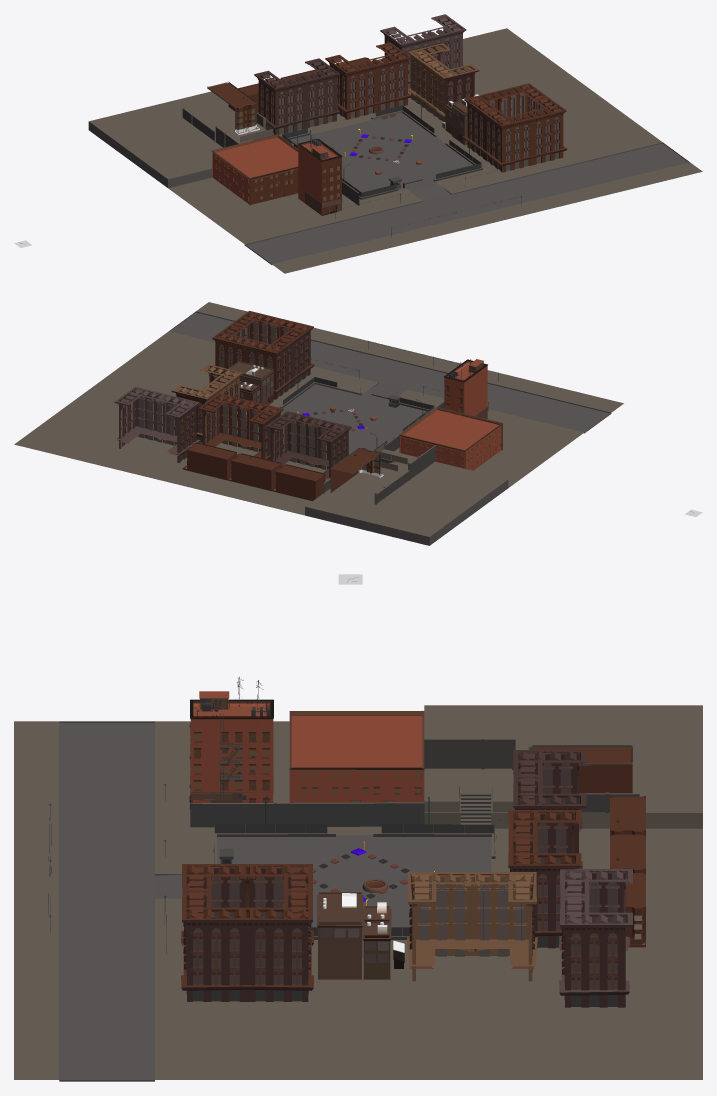
The model's file is street - Copy.fbx.
3 views of the same model, one above another, from view 1: azimuth 30°, elevation 25°; view 2: azimuth 150°, elevation 25°; view 3: azimuth 270°, elevation 25° (orthographic). The views are drawn at different scales.
Visible parts, largest first — view 1: Plane.005, Object290.004, Plane.003, Object290.011, Object290.001, Object290.003, polySurface55, Object290.002, Fencing_low.001, Cube.021, Cube.012, Plane.001 (+1 smaller); view 2: Plane.005, Object290.004, Plane.003, Cube.012, Object290.002, Object290.011, Object290.001, polySurface55, Object290.003, Cube.021, Fencing_low.001, Box209.001 (+3 smaller); view 3: Plane.005, Object290.004, Plane.003, Object290.003, Object290.002, polySurface55, Object290.001, Object290.011, Cube.012, Fencing_low.001, Box209.006, Box209.002 (+4 smaller).
Part boxes in pixels (box(x1,y1,x2,y2)): Plane.005: box(88, 28, 702, 273); Object290.004: box(463, 83, 566, 172); Plane.003: box(211, 134, 298, 205); Object290.011: box(254, 58, 340, 134); Object290.001: box(325, 42, 411, 119); Object290.003: box(407, 43, 479, 122); polySurface55: box(298, 130, 342, 215); Object290.002: box(380, 14, 466, 88); Fencing_low.001: box(282, 105, 482, 199); Cube.021: box(207, 81, 259, 134); Cube.012: box(238, 57, 369, 112); Plane.001: box(406, 181, 451, 201); Plane.005: box(14, 302, 623, 545); Object290.004: box(212, 311, 314, 399); Plane.003: box(399, 407, 502, 470); Cube.012: box(182, 442, 325, 500); Object290.002: box(114, 386, 200, 462); Object290.011: box(266, 411, 351, 479); Object290.001: box(198, 393, 283, 460); polySurface55: box(444, 359, 487, 418); Object290.003: box(171, 364, 242, 442); Cube.021: box(330, 447, 383, 492); Fencing_low.001: box(237, 377, 434, 450); Box209.001: box(323, 470, 409, 504); Plane.005: box(14, 705, 702, 1081); Object290.004: box(181, 864, 313, 1001); Plane.003: box(289, 710, 424, 802); Object290.003: box(407, 872, 537, 981); Object290.002: box(559, 869, 632, 1007); polySurface55: box(189, 677, 273, 808); Object290.001: box(508, 810, 581, 948); Object290.011: box(513, 750, 586, 869); Cube.012: box(610, 796, 645, 947); Fencing_low.001: box(213, 823, 496, 939); Box209.006: box(307, 802, 424, 826); Box209.002: box(424, 738, 515, 769).
Size of the model in its own units: 29704 by 4182 by 17100.
